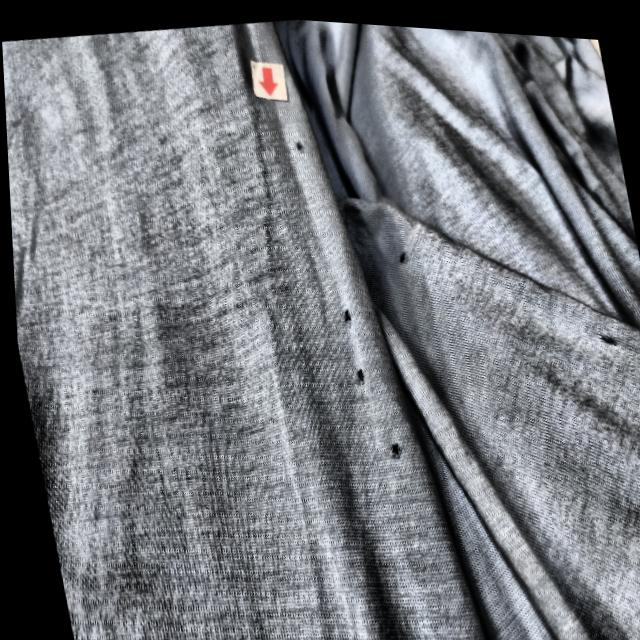Hole: (338, 353, 371, 390), (329, 293, 356, 334), (587, 320, 621, 348), (377, 429, 404, 460), (286, 130, 308, 156), (388, 240, 408, 265)
